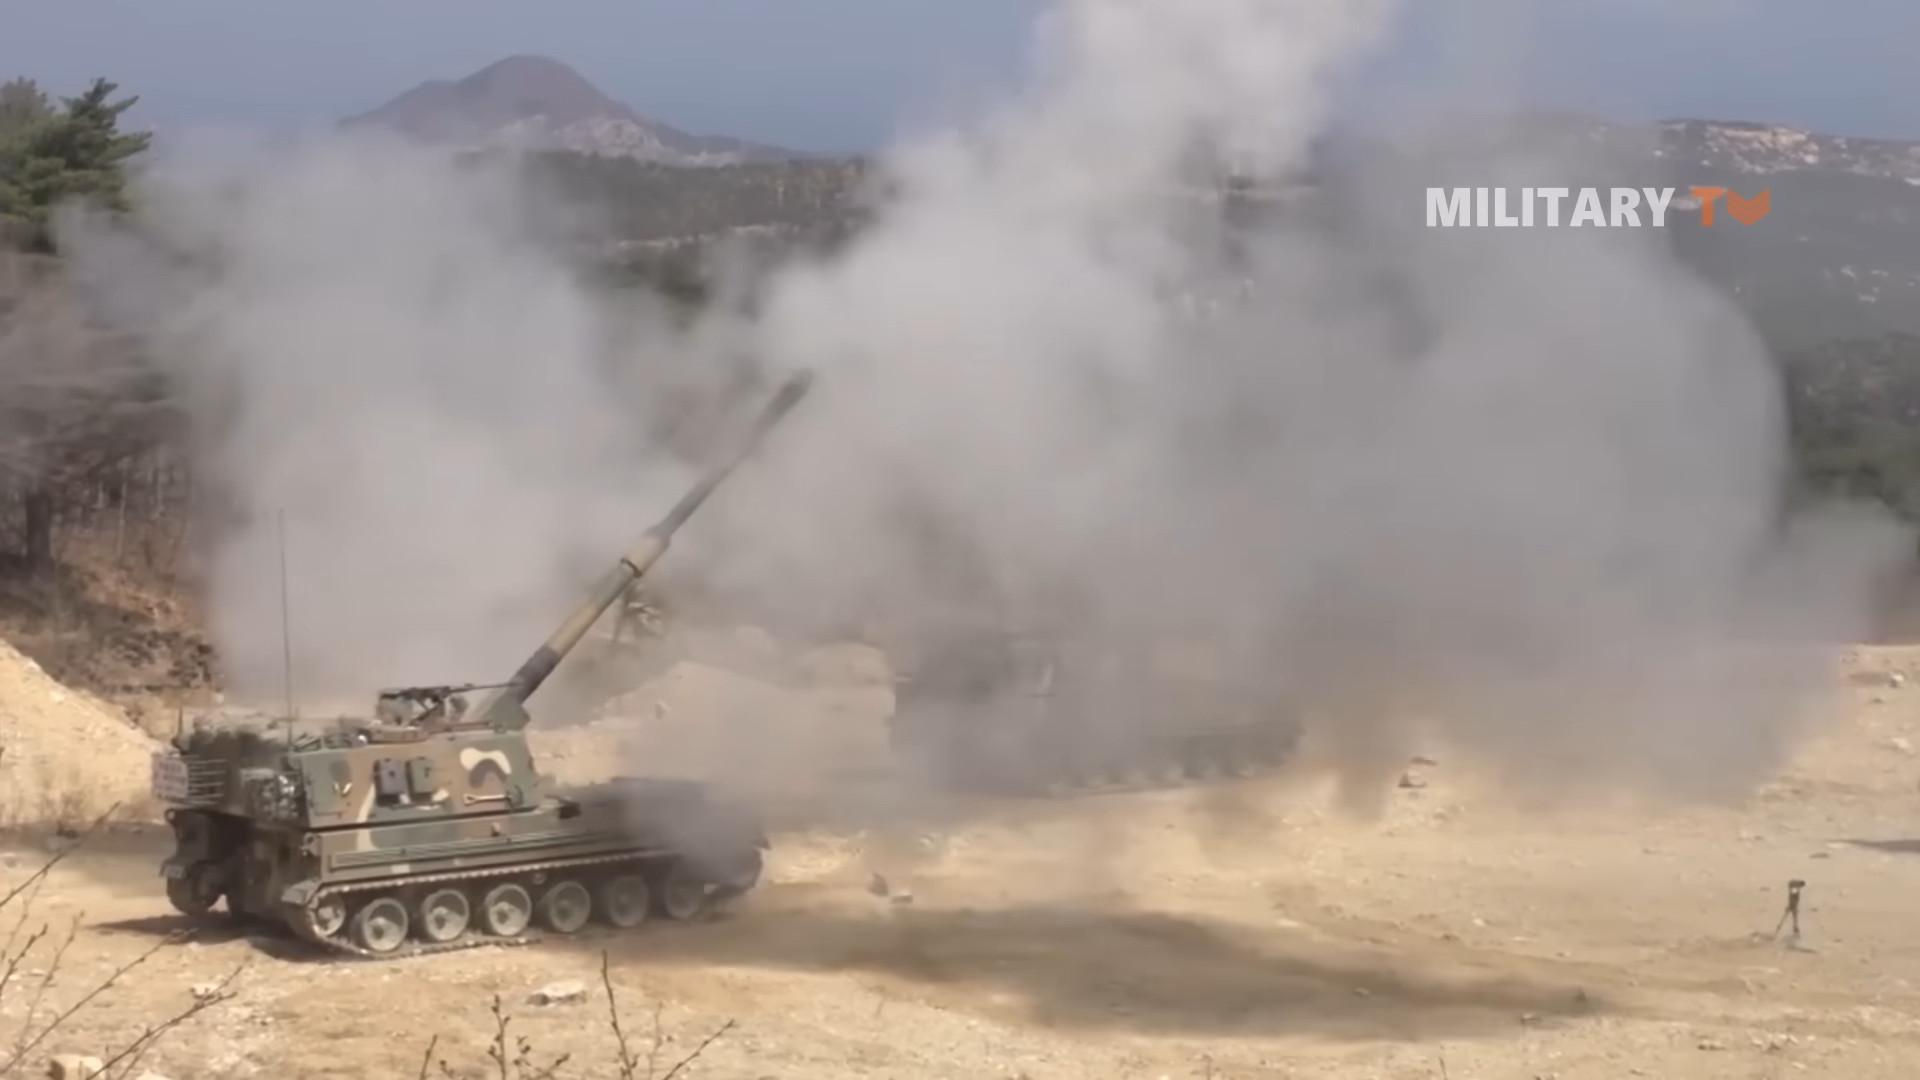tank: (148, 375, 810, 959)
